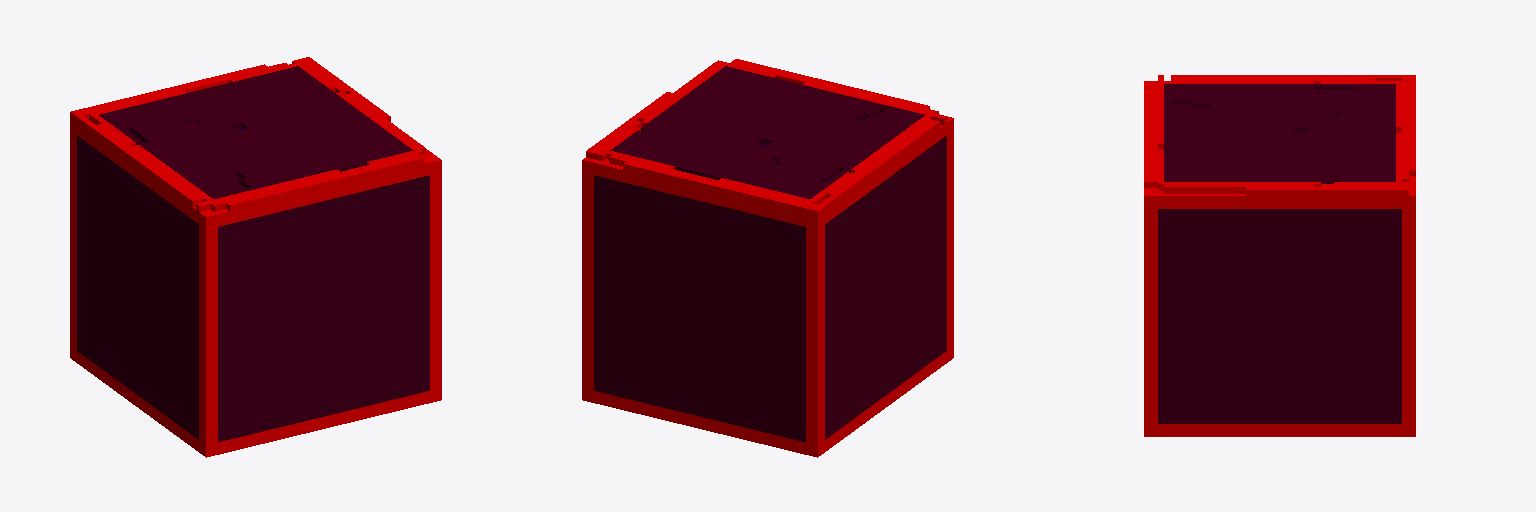
3 views of the same model, side by side, from view 1: azimuth 30°, elevation 25°; view 2: azimuth 150°, elevation 25°; view 3: azimuth 270°, elevation 25° (orthographic).
Visible parts, largest first — view 1: object 1; view 2: object 1; view 3: object 1.
Boxes of the visible parts, box(x1,y1,x2,y2) form: object 1: box(70, 57, 441, 457); object 1: box(582, 59, 953, 457); object 1: box(1144, 75, 1415, 436).
Size of the model in its own units: 4 by 4 by 4.
Materials: 1 (1 with a texture image).